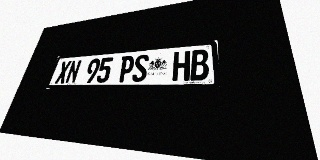5: (95, 57, 113, 83)
9: (84, 58, 101, 83)
B: (190, 49, 209, 81)
H: (172, 51, 190, 81)
N: (64, 60, 82, 84)
P: (117, 55, 135, 82)
S: (131, 54, 149, 82)
X: (54, 61, 72, 84)
